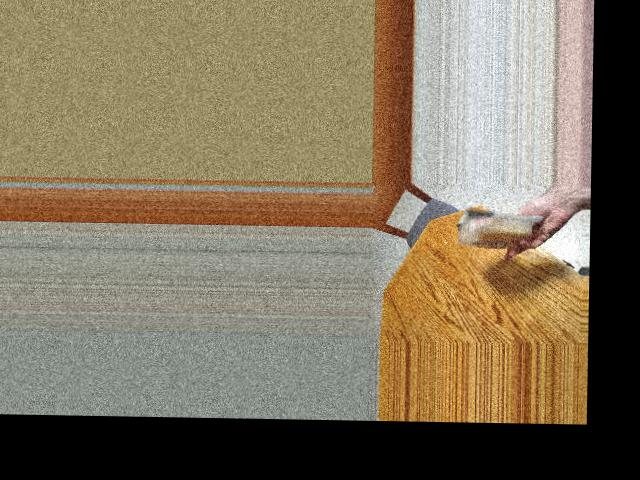cheese: (459, 201, 535, 258)
